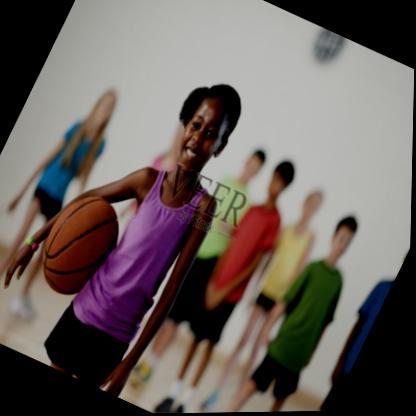basketball: (29, 186, 132, 305)
